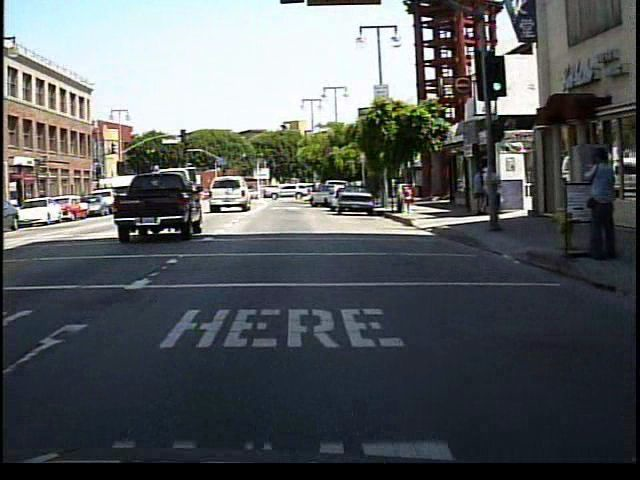person: (576, 145, 616, 263), (482, 162, 507, 230), (470, 167, 486, 218)
